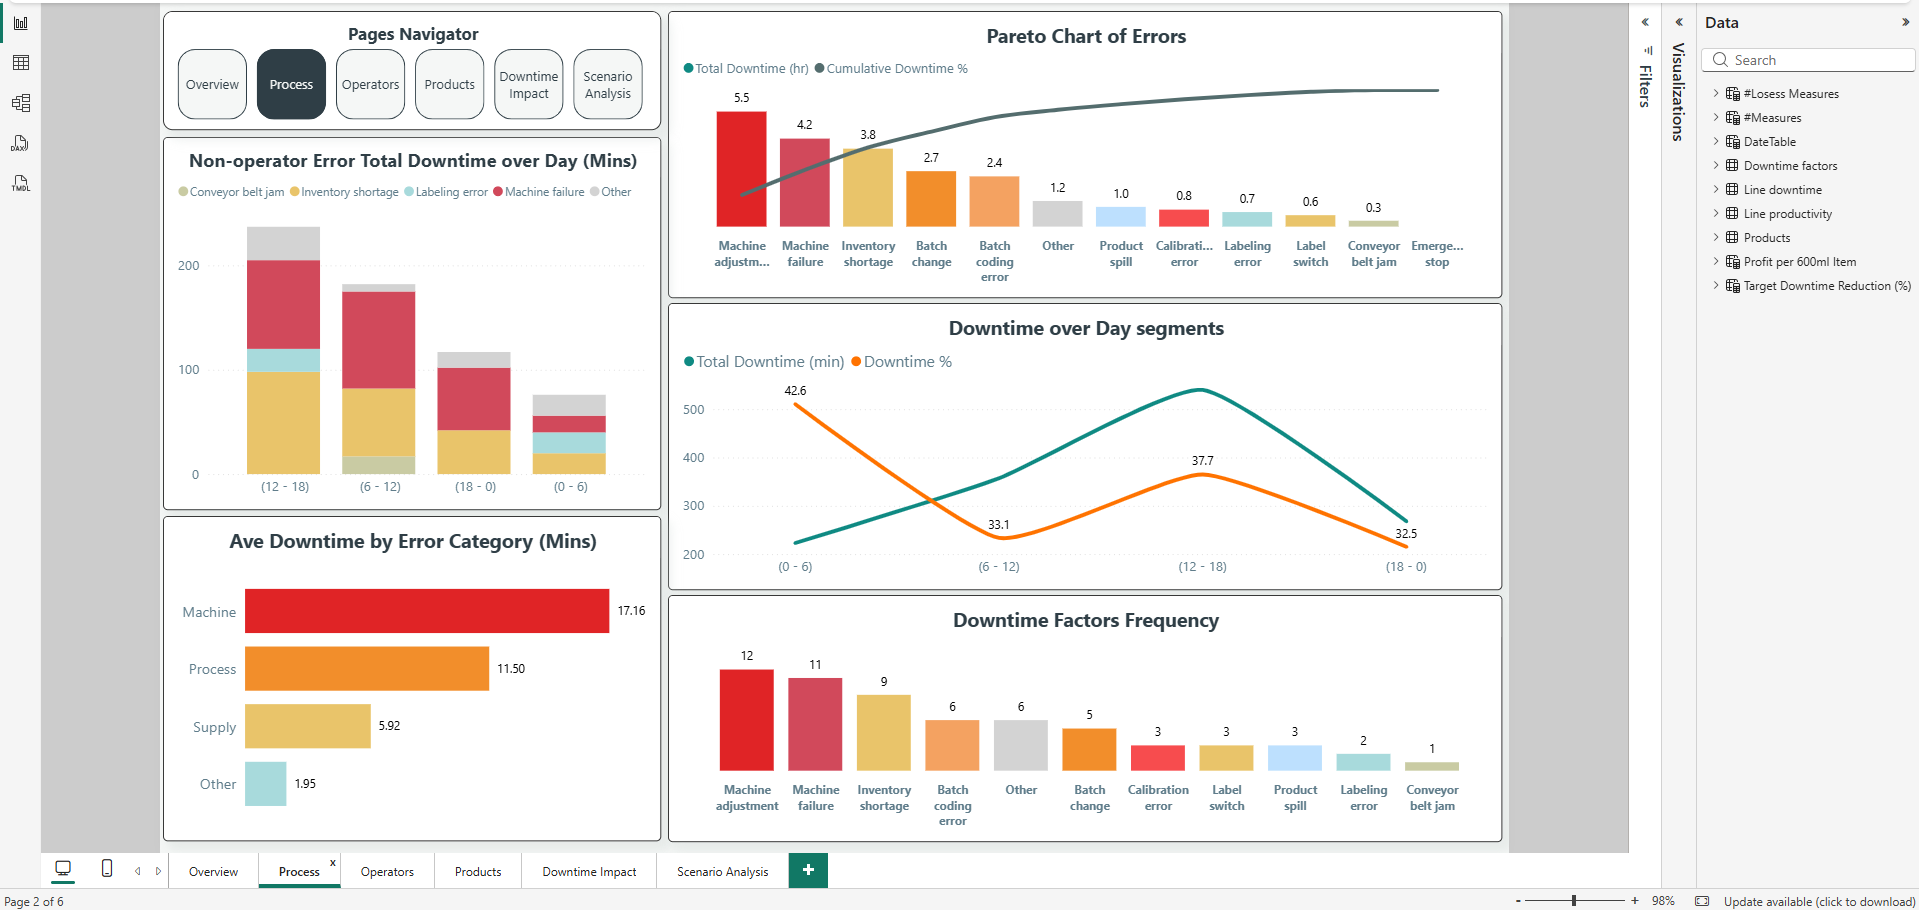

Layout of this report page (visuals, bound fields, positions):
{"tool":"powerbi","page":{"name":"Process","canvas":[1380,870],"ordinal":1},"visuals":[{"type":"lineStackedColumnComboChart","title":"Pareto Chart of Errors","fields":{"Y":["#Measures.Total Downtime (hr)"],"Y2":["#Measures.Cumulative Downtime %"],"Category":["Downtime factors.Description"]},"box":[519.7,8.3,854.1,294],"z":0},{"type":"columnChart","title":"Non-operator Error Total Downtime over Day (Mins)","fields":{"Category":["Line productivity.Day segmentation"],"Series":["Downtime factors.Description"],"Y":["#Measures.Total Downtime (min)"]},"box":[3.1,136.7,510.4,382],"z":1000},{"type":"lineChart","title":"Downtime over Day segments","fields":{"Category":["Line productivity.Day segmentation"],"Y2":["#Measures.downtime percentage"],"Y":["#Measures.Total Downtime (min)"]},"box":[519.7,307.1,854.1,294],"z":2000},{"type":"barChart","title":"Ave Downtime by Error Category (Mins)","fields":{"Category":["Downtime factors.Cause Category"],"Y":["#Measures.Ave Downtime per Batch"]},"box":[3.1,524.9,510.4,333.4],"z":3000},{"type":"columnChart","title":"Downtime Factors Frequency","fields":{"Category":["Downtime factors.Description"],"Y":["#Measures.Downtime Events"]},"box":[520,605.9,853.6,252.8],"z":6000},{"type":"pageNavigator","title":"Pages Navigator","box":[3.1,8.3,510.4,122.2],"z":7000}]}

Visuals, with their boxes on the page's 1380x870 design canvas (x1, y1, x2, y2). These are canvas units, not pixel positions in the 1919x910 screenshot, which may show the page scaled, cropped or inside an application window:
"Pareto Chart of Errors" lineStackedColumnComboChart: box=[520, 8, 1374, 302]
"Non-operator Error Total Downtime over Day (Mins)" columnChart: box=[3, 137, 514, 519]
"Downtime over Day segments" lineChart: box=[520, 307, 1374, 601]
"Ave Downtime by Error Category (Mins)" barChart: box=[3, 525, 514, 858]
"Downtime Factors Frequency" columnChart: box=[520, 606, 1374, 859]
"Pages Navigator" pageNavigator: box=[3, 8, 514, 130]
